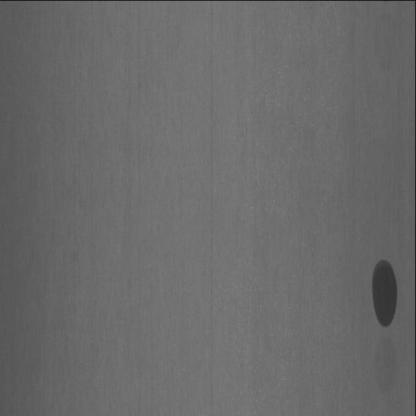oil_spot: (370, 250, 405, 338)
